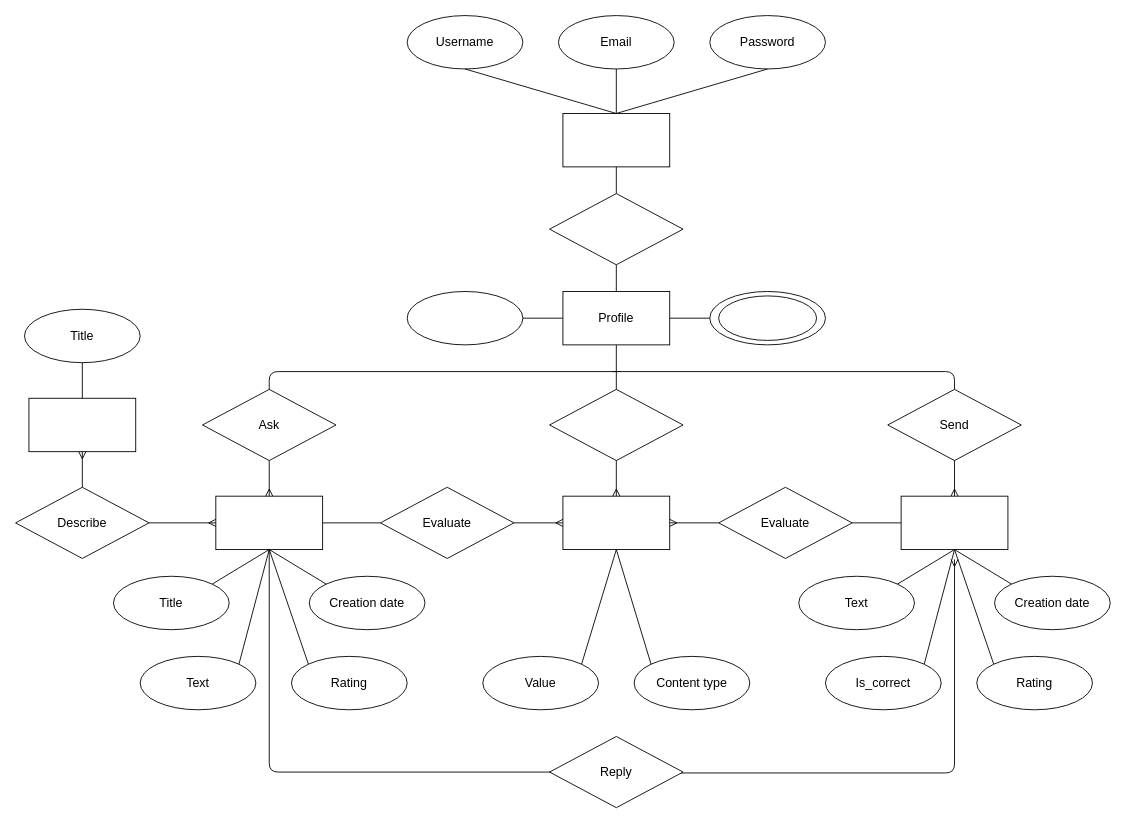
The diagram is 1126 pixels wide and 823 high, and some of its shapes have lost their labels. Here are the shapes that lost their labels. From the top down, the centre of each, then its label:
At point 616,140: "User".
At point 616,229: "Has".
At point 464,318: "Name".
At point 767,317: "Avatar".
At point 82,424: "Tag".
At point 616,424: "Set".
At point 269,522: "Question".
At point 616,522: "Vote".
At point 954,522: "Comment".
